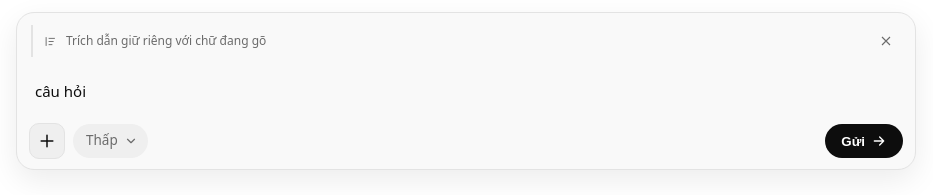
long paste conversion › removes the quote strip without changing the draft
This screenshot has width=933, height=195.
Click the button named "Gỡ đoạn trích" at (886, 41), box left=871, top=26, right=901, bottom=56
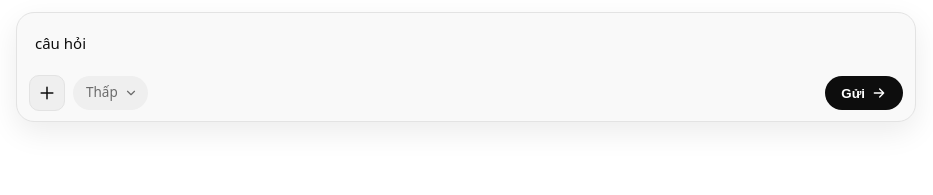
Expected: the text box holds "câu hỏi", left=29, top=23, right=903, bottom=67
Expected: the text "Trích dẫn giữ riêng với chữ đang gõ" is gone
